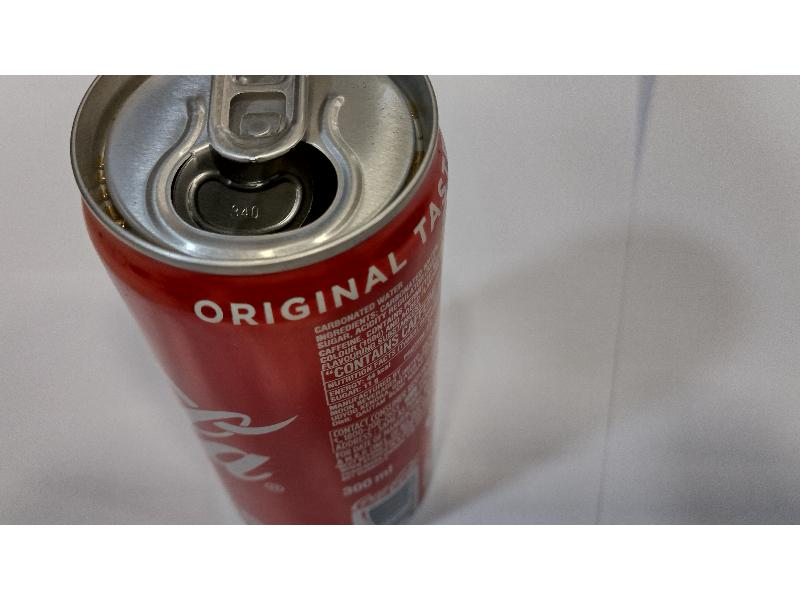can: (65, 75, 478, 524)
